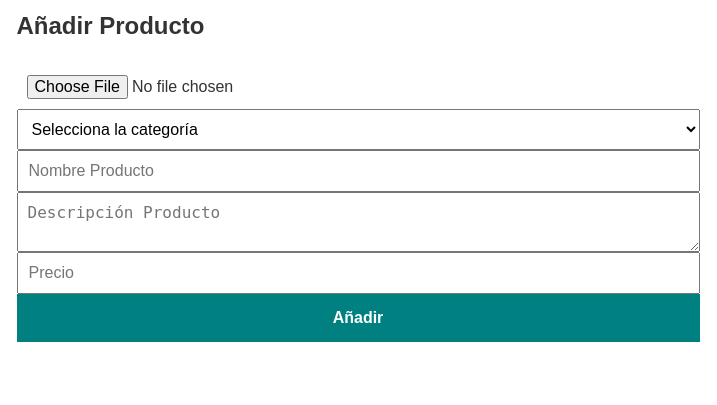
Test: AddProduct Component › debería mostrar un mensaje de error si la API falla
Check: the dropdown is shown, box [16,109,700,150]
In the field with placeholder "Nombre Producto": (358,171) [16,150,700,192], type "Producto Nuevo"
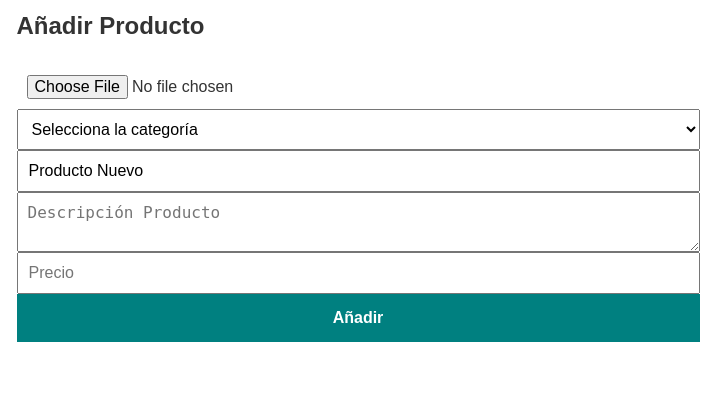
In the text box with placeholder "Descripción Producto": (358,222) [16,192,700,252], type "Descripción nueva"
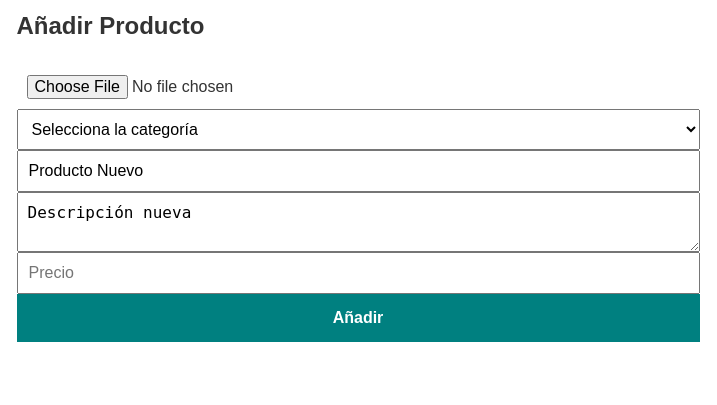
In the number field with placeholder "Precio": (358,273) [16,252,700,294], type "100"
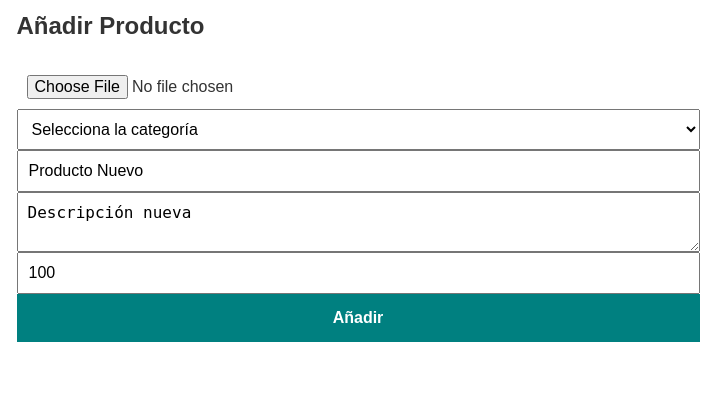
Click the button "Añadir": (358,318) [16,294,700,342]
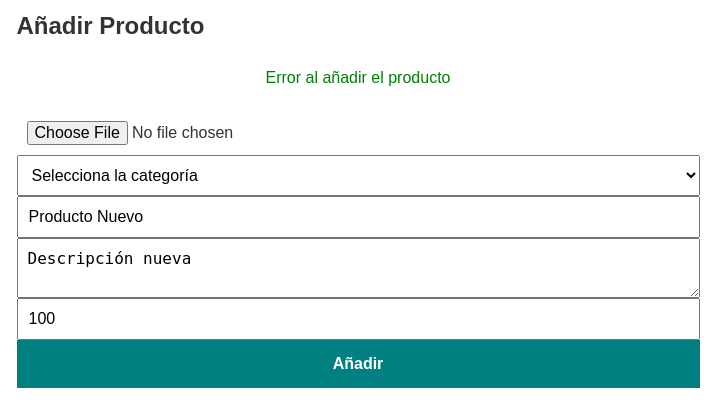
Check: the text "Error al añadir el producto" is shown, box [266,69,450,86]
